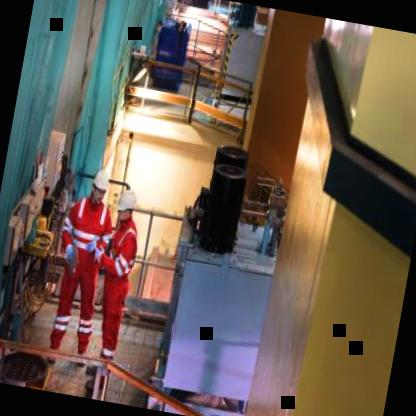helmet: (84, 166, 113, 209), (114, 184, 138, 226)
